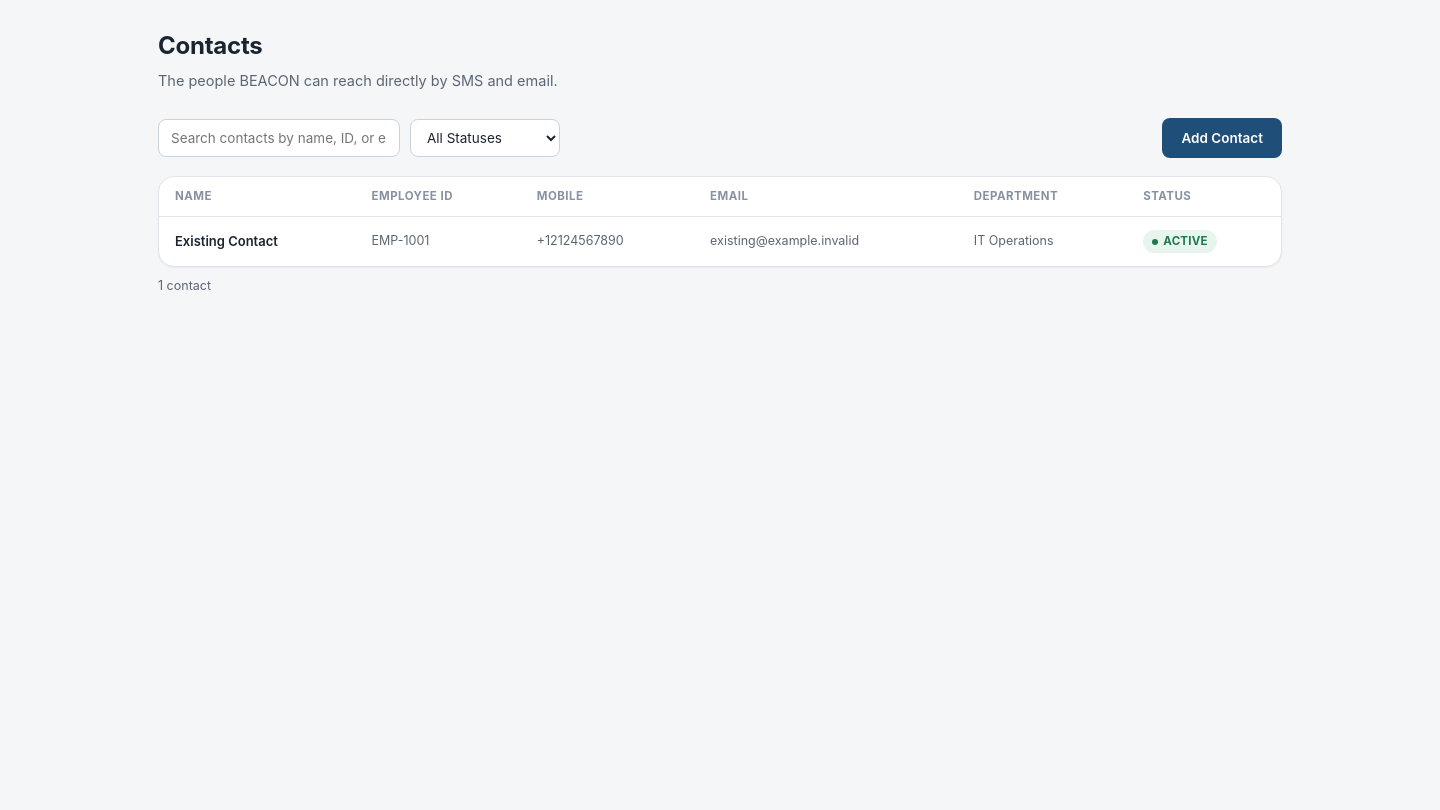
Test case: ContactsPage › shows a duplicate warning and allows creating anyway
The width and height of the screenshot is (1440, 810).
Click the button "Add Contact".
click(1222, 138)  # box [1162,118,1282,158]
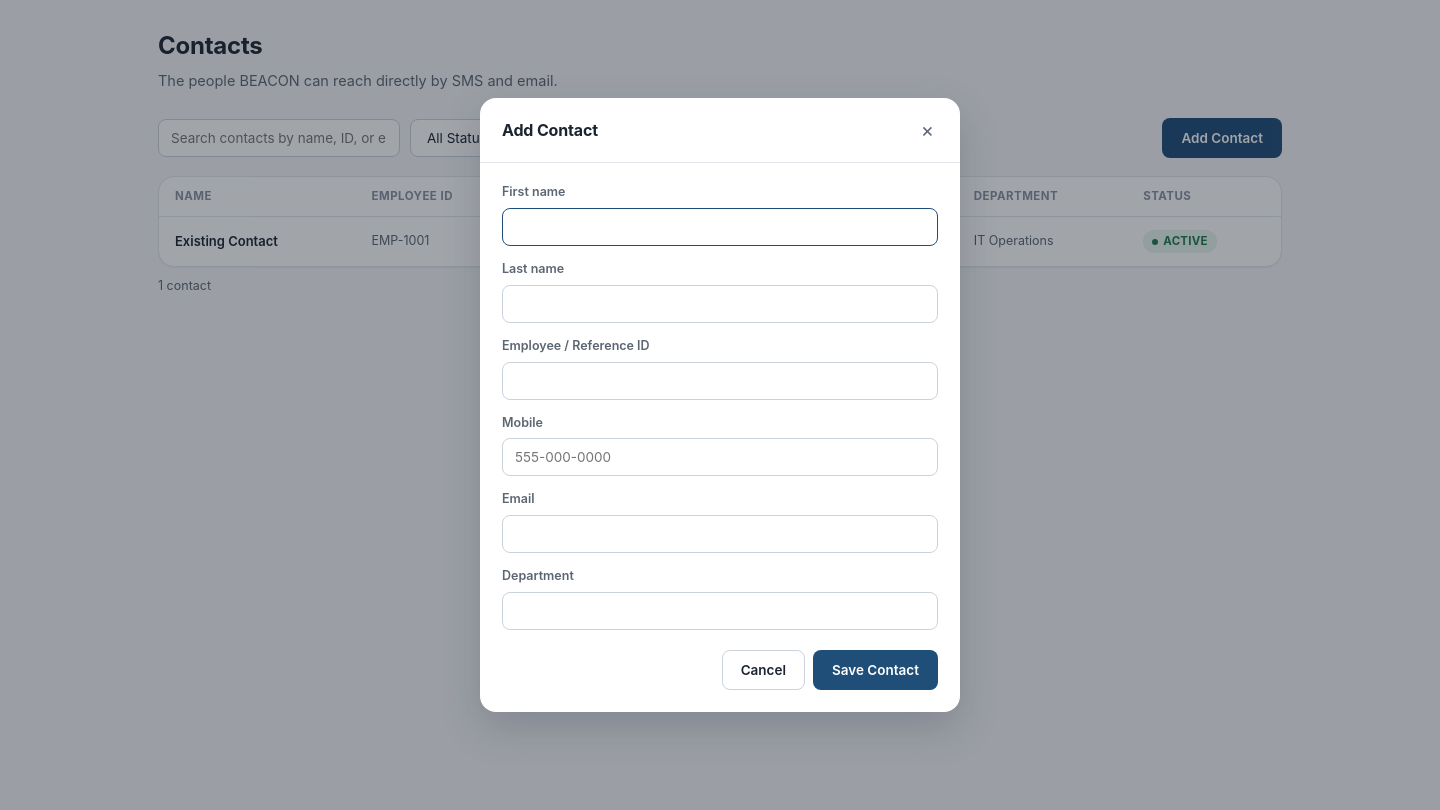
Type "Dup" into the field labelled "First name".
click(720, 227); type("Dup")  # box [502,208,938,246]
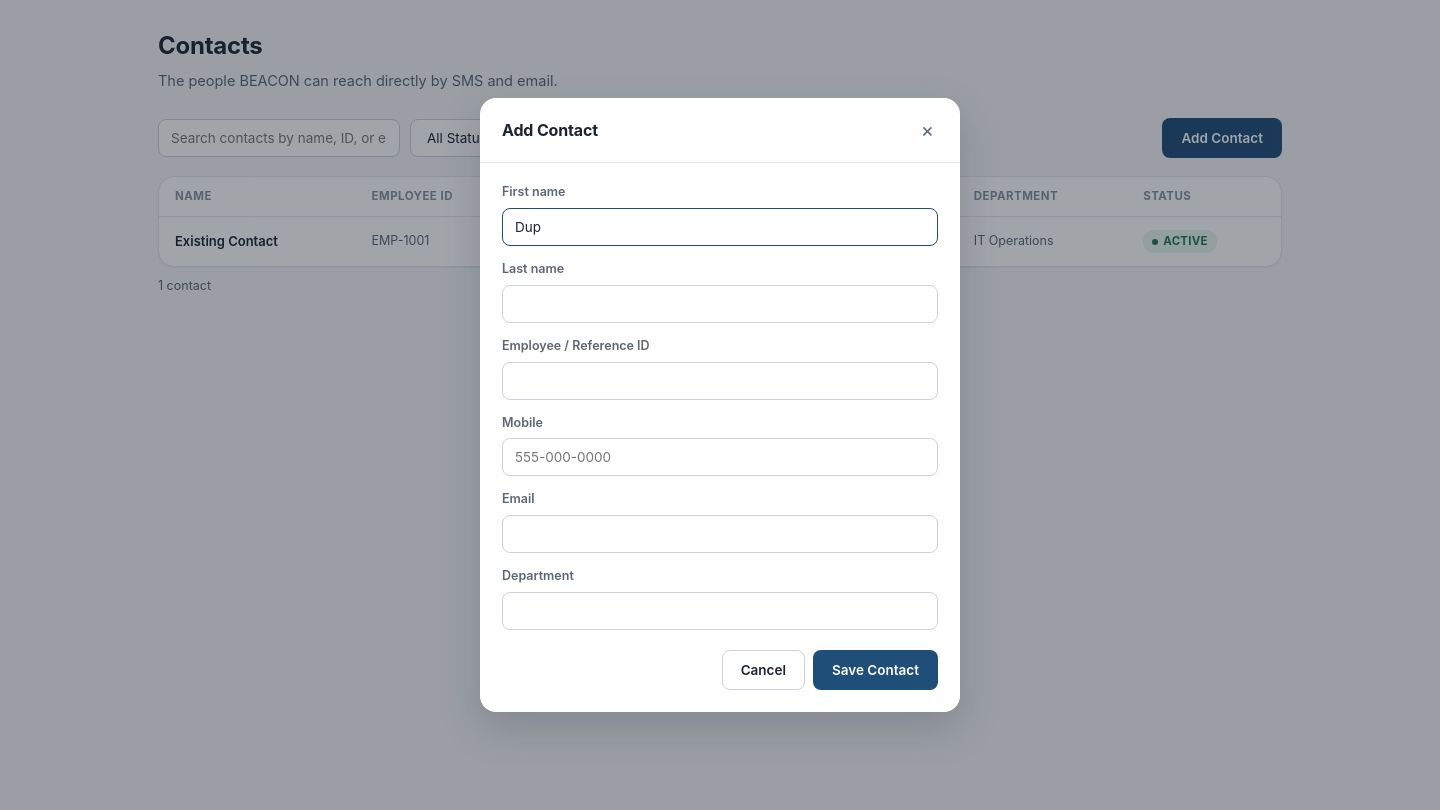
Type "Person" into the field labelled "Last name".
click(720, 304); type("Person")  # box [502,285,938,323]
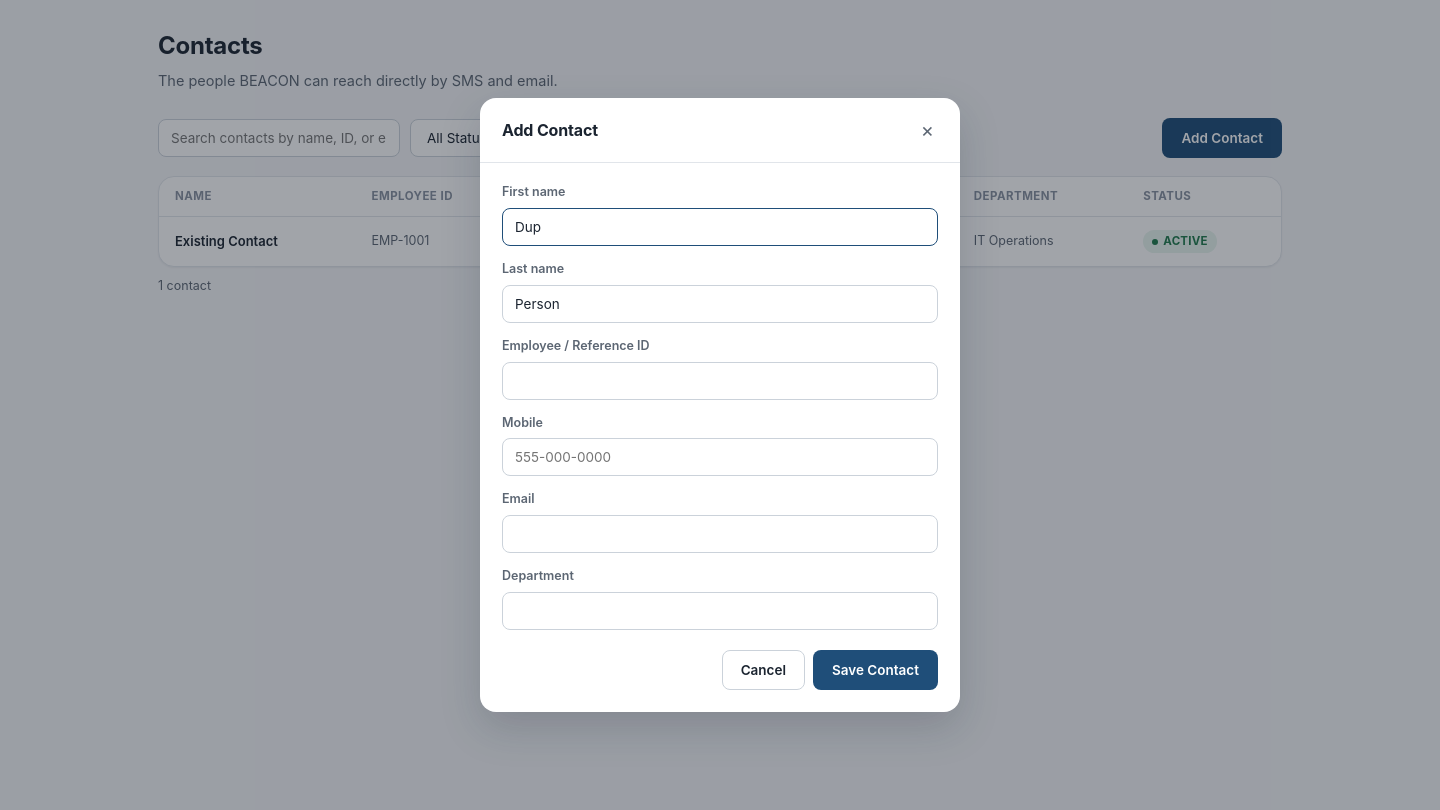
Type "existing@example.invalid" into the field labelled "Email".
click(720, 534); type("existing@example.invalid")  # box [502,515,938,553]
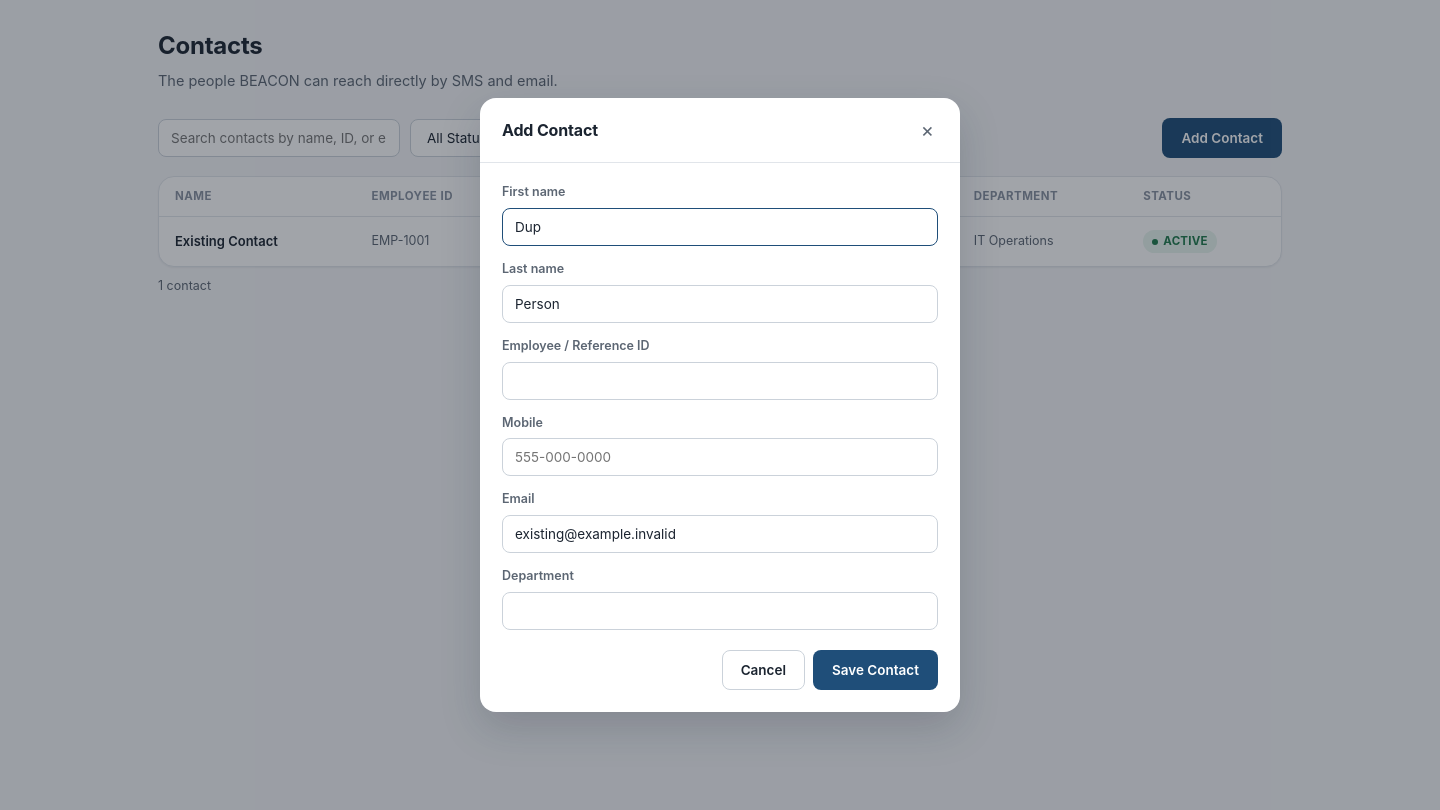
Click the button "Save Contact".
click(876, 670)  # box [813,650,938,690]
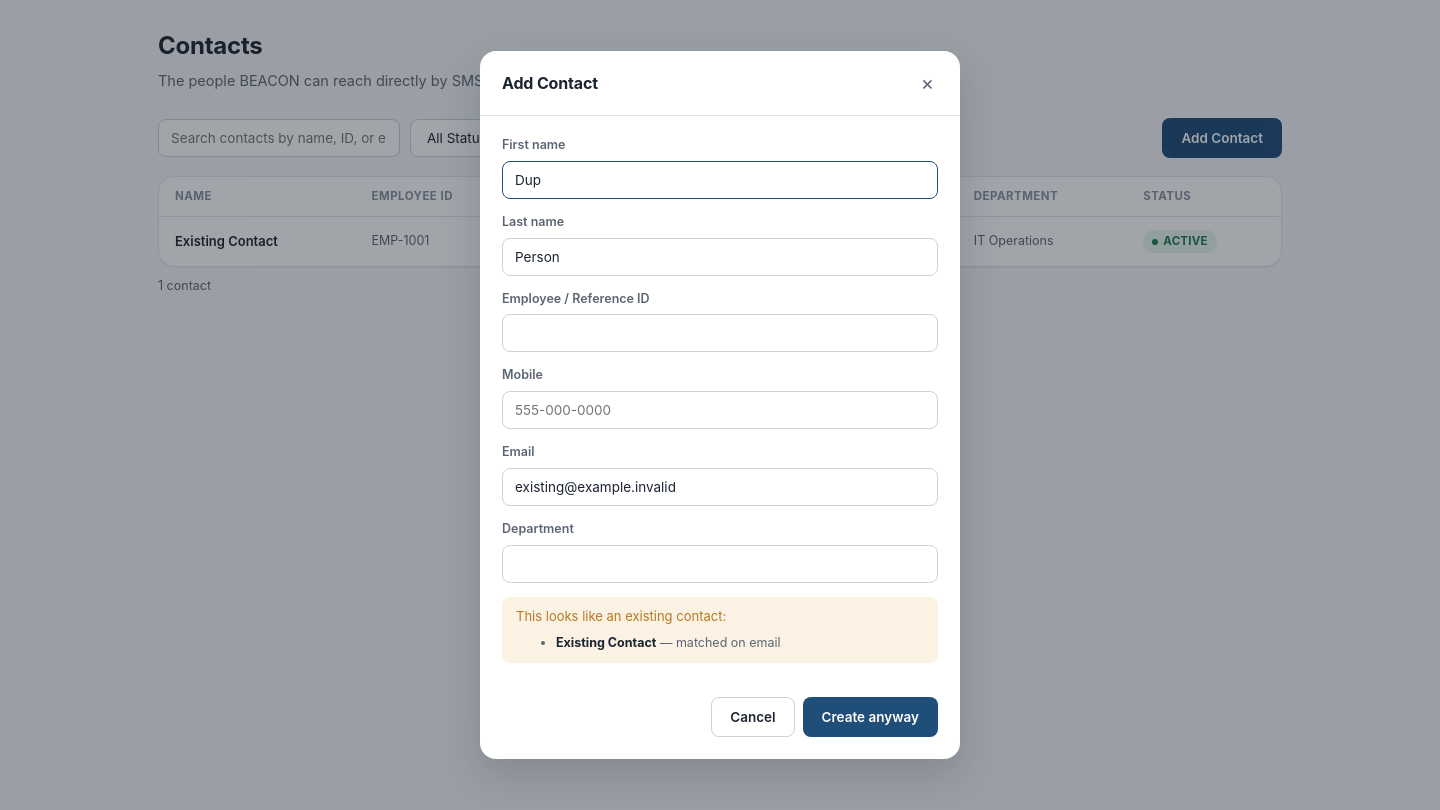
Expected: the list item "Existing Contact — matched on email" is shown, [556,635,780,650]
Expected: the button "Create anyway" is shown, [803,697,938,737]
